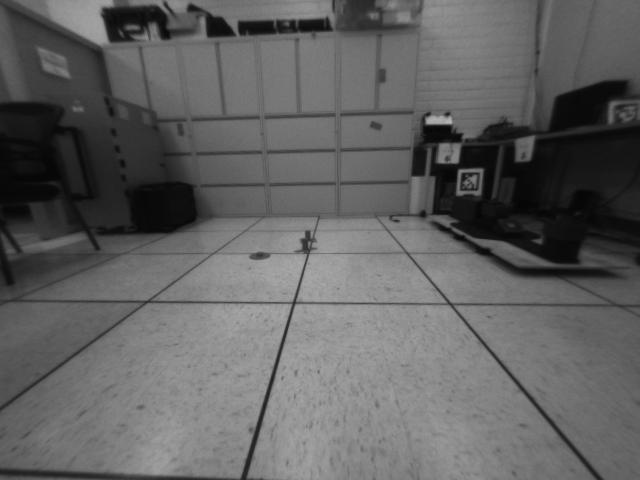X: (293, 242, 319, 255), (299, 231, 317, 242)
